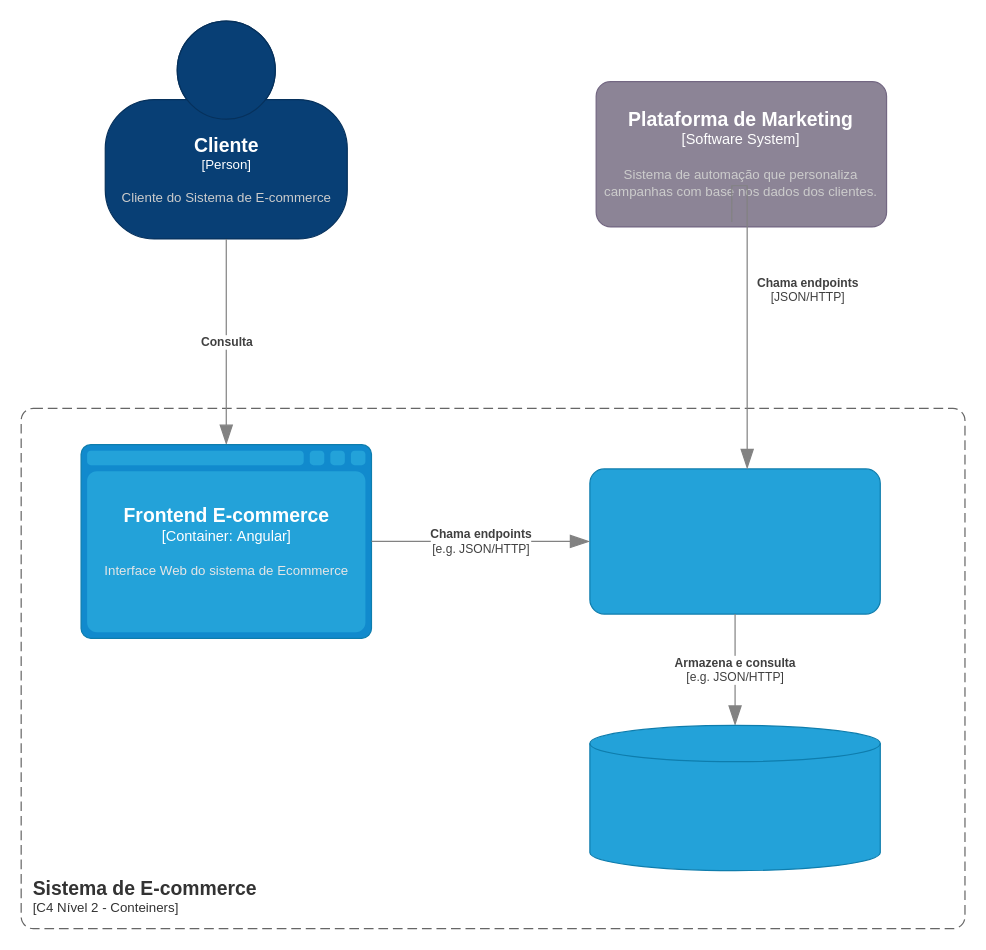
Some shapes in this 986 by 950 pixel diagram are drawn without their labels. The centre of each missing label's shape, as x and y in pixels:
"Customer API [Container: SpringBoot] API Rest de Clientes" goes at (x=734, y=541).
"Customer DB [Container: Postgres] Banco de Dados de Clientes" goes at (x=734, y=797).
